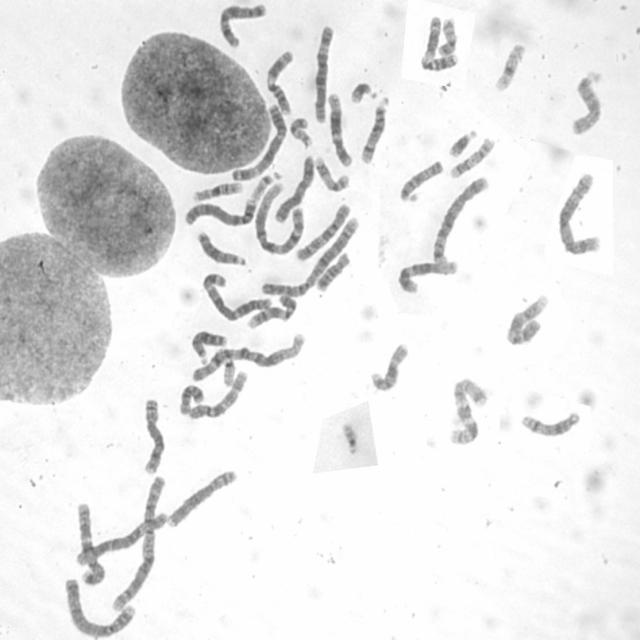A1: (189, 330, 309, 384), (253, 177, 307, 259)
A2: (107, 470, 167, 614), (259, 216, 360, 301)
A3: (228, 101, 291, 183), (193, 269, 273, 323)
B4: (58, 573, 139, 640), (182, 195, 259, 228)
B5: (432, 174, 491, 267), (554, 169, 608, 262)
C10: (294, 202, 352, 263), (186, 369, 249, 422)
C11: (416, 10, 462, 76), (263, 44, 300, 118)
C12: (396, 258, 461, 296), (326, 93, 354, 168)
C6: (72, 509, 170, 569), (311, 20, 337, 125)
C7: (441, 370, 494, 450), (75, 501, 108, 587)
C8: (166, 468, 240, 529), (142, 396, 168, 481)
C9: (505, 291, 552, 349), (246, 294, 299, 330)
D13: (195, 231, 248, 266), (188, 329, 230, 367)
D14: (358, 93, 393, 168), (514, 413, 582, 438)
D15: (566, 69, 612, 138), (396, 157, 446, 208)
E16: (367, 339, 410, 393), (192, 180, 245, 202)
E17: (448, 136, 498, 180), (312, 154, 350, 193)
E18: (314, 251, 356, 294), (176, 384, 205, 418)
F19: (489, 38, 534, 96), (211, 345, 239, 388)
F20: (288, 115, 315, 150), (438, 16, 460, 58)
G21: (446, 127, 484, 160), (347, 80, 379, 104)
G22: (249, 170, 283, 203), (338, 421, 360, 454)
X: (273, 154, 315, 225), (217, 1, 270, 50)
